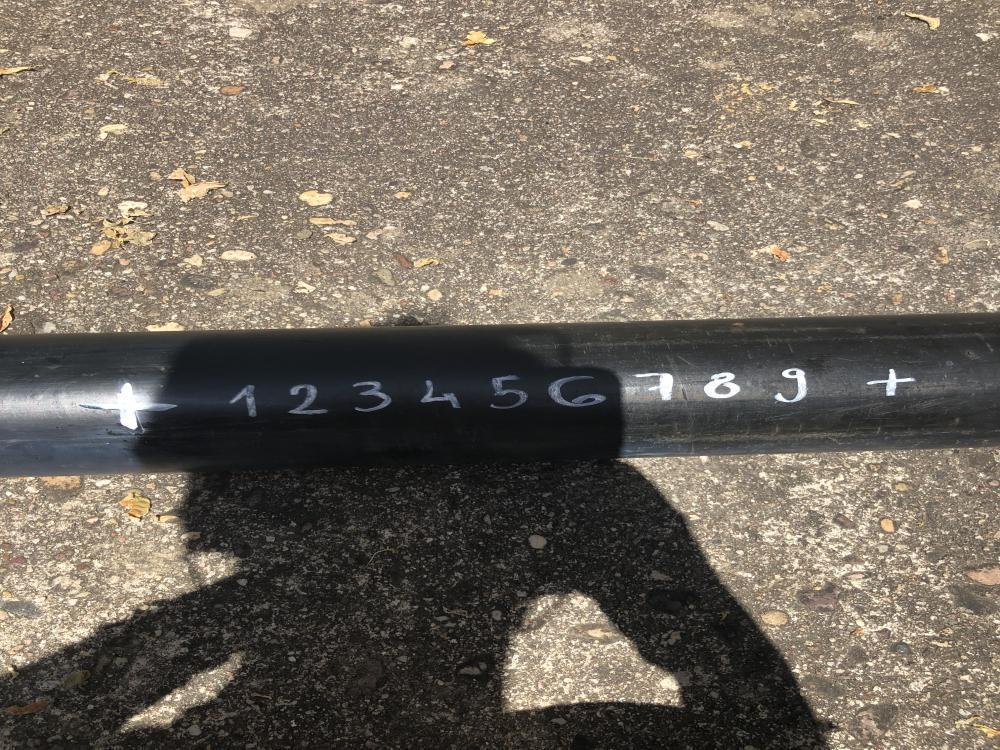+: (81, 381, 177, 430), (866, 368, 916, 396)
1: (230, 384, 262, 419)
2: (290, 384, 330, 416)
3: (354, 381, 390, 413)
4: (423, 379, 464, 410)
5: (488, 375, 527, 410)
6: (549, 375, 608, 407)
7: (634, 372, 676, 402)
8: (705, 370, 738, 399)
9: (774, 369, 807, 404)
